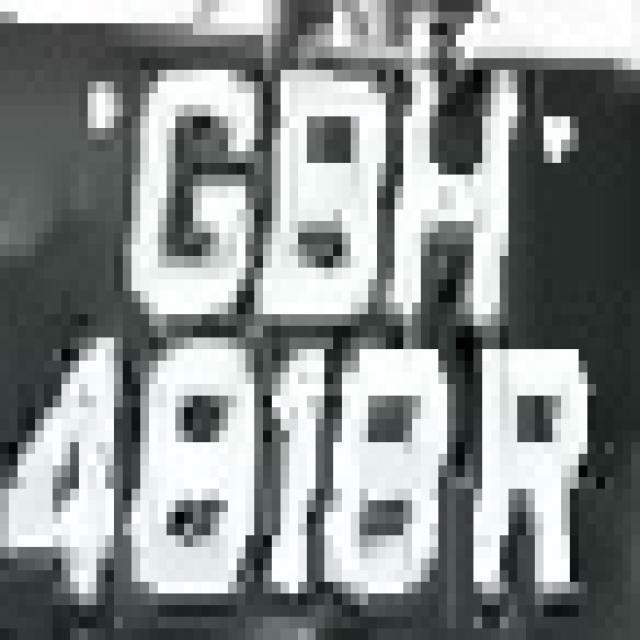1: (272, 302, 316, 582)
4: (9, 302, 123, 628)
8: (307, 326, 456, 593), (123, 338, 254, 605)
B: (245, 35, 386, 361)
G: (114, 47, 263, 349)
H: (386, 58, 535, 361)
R: (456, 326, 605, 628)
